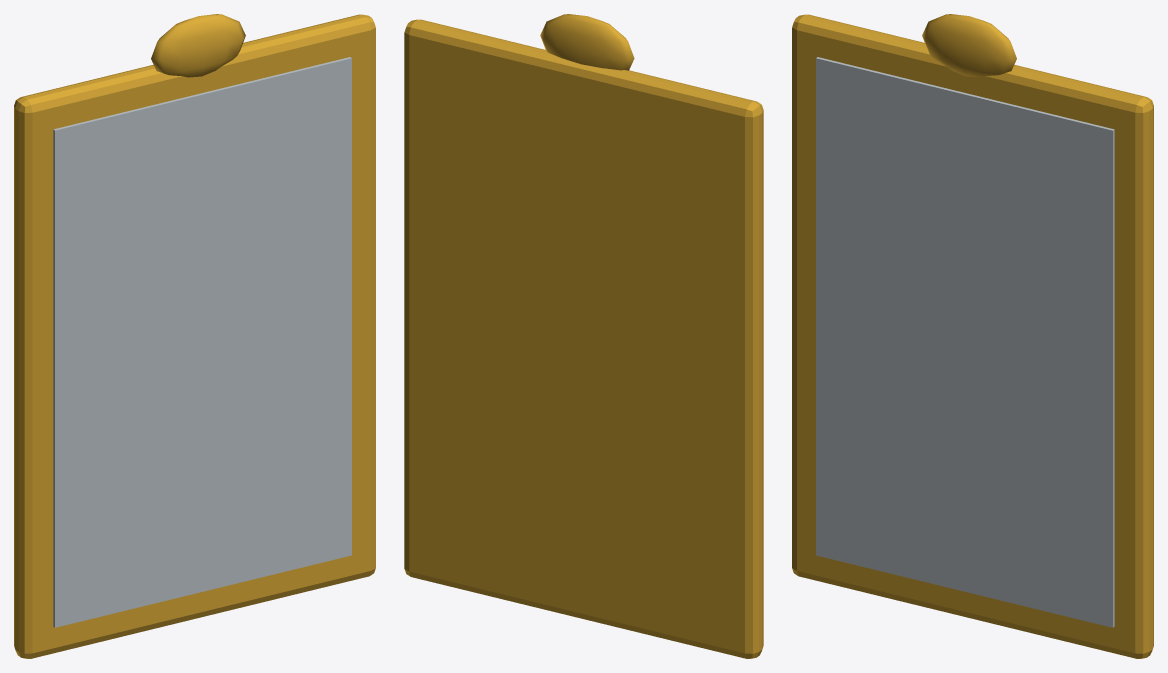
The model's file is mirror.glb.
The picture shows the model from 3 angles, left to right: view 1: azimuth 30°, elevation 25°; view 2: azimuth 150°, elevation 25°; view 3: azimuth 330°, elevation 25°; orthographic projection.
Visible parts, largest first — view 1: mirror; view 2: mirror; view 3: mirror.
Part boxes in pixels (x1,y1,x2,y2): mirror: [14, 14, 375, 658]; mirror: [404, 14, 763, 658]; mirror: [792, 14, 1153, 658].
Size of the model in its own units: 0.6 by 0.97 by 0.05.
